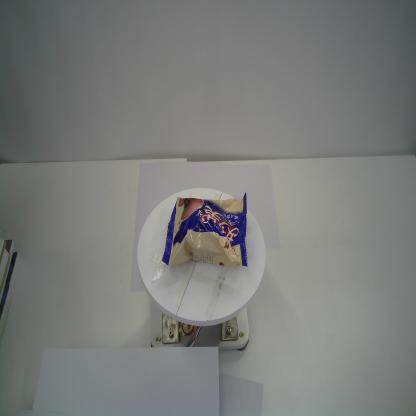Dessert: (160, 192, 249, 268)
